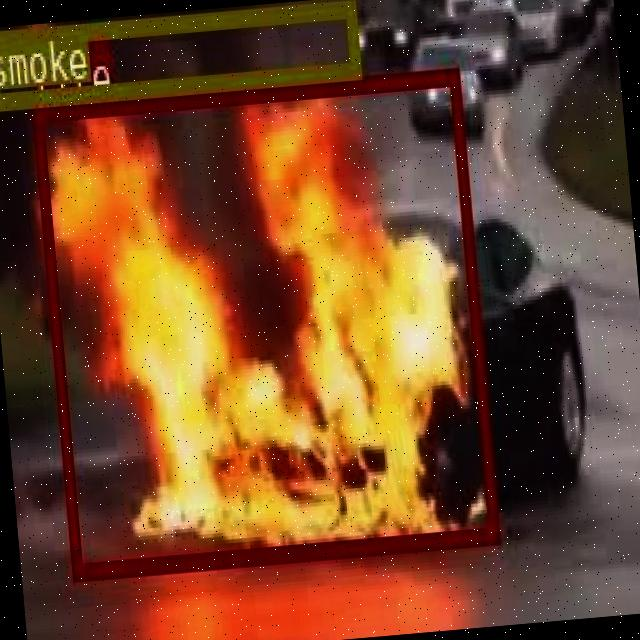fire: (29, 64, 497, 576)
smoke: (0, 0, 358, 107)
